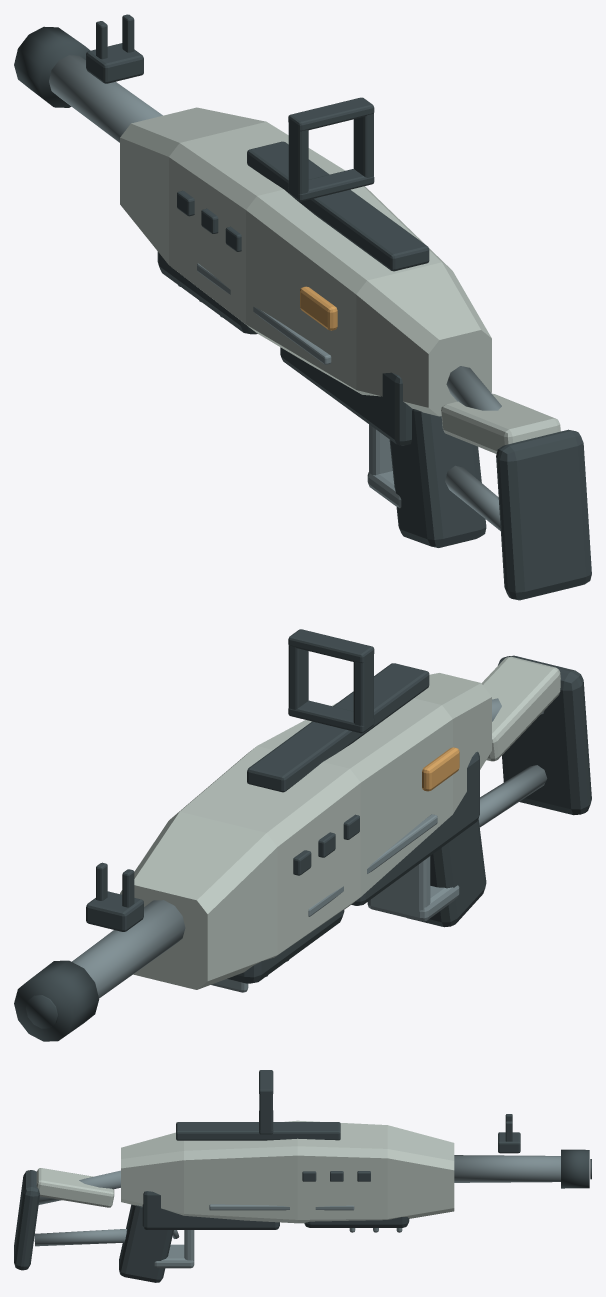
File: pulse-carbine-v4.glb
The picture shows the model from 3 angles, top to bottom: view 1: azimuth 30°, elevation 25°; view 2: azimuth 150°, elevation 25°; view 3: azimuth 270°, elevation 25°; orthographic projection. The views are drawn at different scales.
Parts seen in each view (by area): view 1: Warm ceramic shell, Receiver graphite, Brushed working steel, Safety ochre; view 2: Warm ceramic shell, Receiver graphite, Brushed working steel, Safety ochre; view 3: Warm ceramic shell, Receiver graphite, Brushed working steel.
Boxes of the visible parts, <box> form: Warm ceramic shell: <box>120,107,560,453</box>; Receiver graphite: <box>14,14,591,600</box>; Brushed working steel: <box>49,55,501,531</box>; Safety ochre: <box>300,286,337,330</box>; Warm ceramic shell: <box>120,656,560,989</box>; Receiver graphite: <box>14,629,591,1041</box>; Brushed working steel: <box>72,698,547,998</box>; Safety ochre: <box>422,747,459,791</box>; Warm ceramic shell: <box>36,1120,454,1223</box>; Receiver graphite: <box>14,1070,591,1282</box>; Brushed working steel: <box>34,1155,560,1268</box>.
Size of the model in its own units: 0.2115 by 0.5563 by 1.47.
